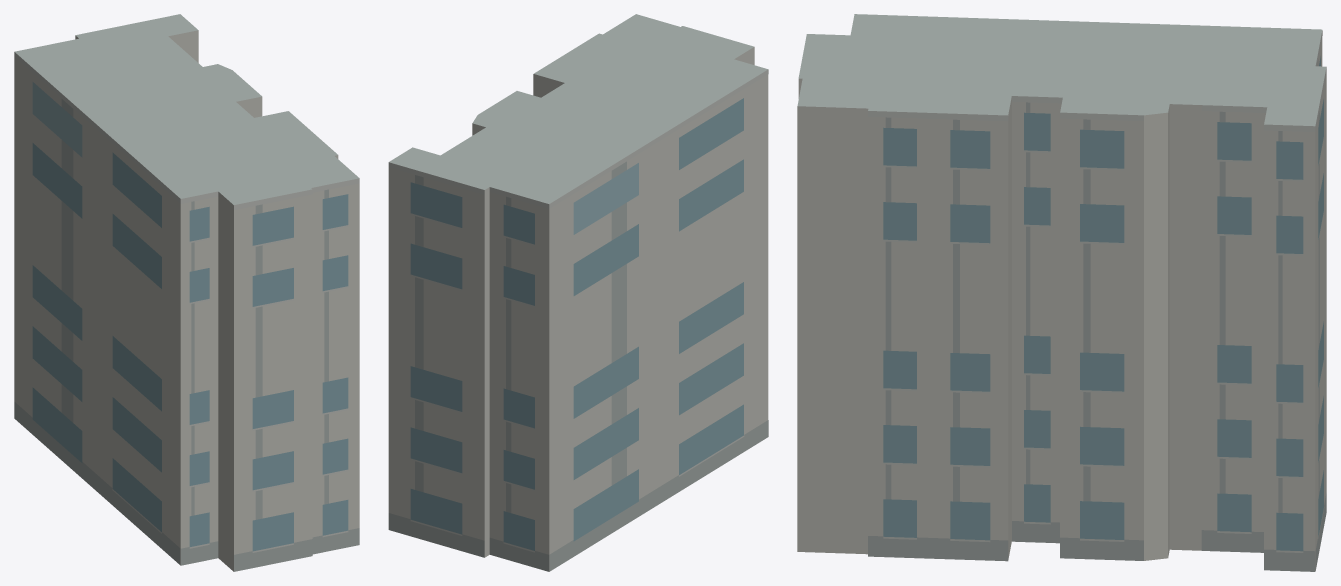
The model's file is survey-upis-32609282.glb.
3 views of the same model, side by side, from view 1: azimuth 30°, elevation 25°; view 2: azimuth 150°, elevation 25°; view 3: azimuth 270°, elevation 25° (orthographic). The views are drawn at different scales.
Visible parts, largest first — view 1: survey-upis-32609282.tmp; view 2: survey-upis-32609282.tmp; view 3: survey-upis-32609282.tmp.
Boxes of the visible parts, bbox=[...] form: survey-upis-32609282.tmp: bbox=[14, 14, 359, 571]; survey-upis-32609282.tmp: bbox=[388, 14, 768, 571]; survey-upis-32609282.tmp: bbox=[797, 14, 1326, 571].
Bounding box in the file's own units: 9.73 × 18 × 19.38.
